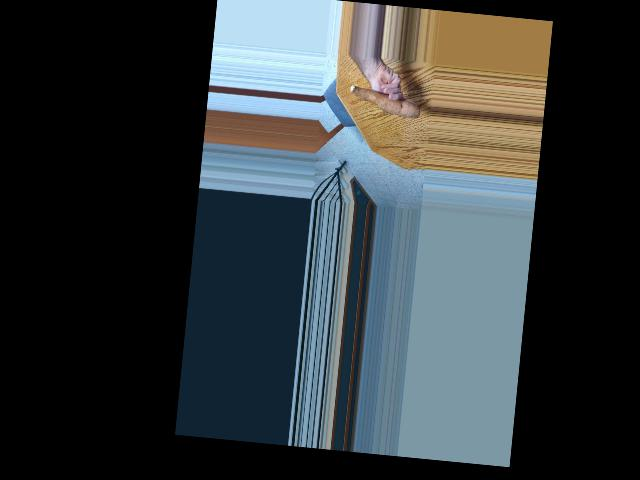sweet_potato: (347, 81, 421, 121)
